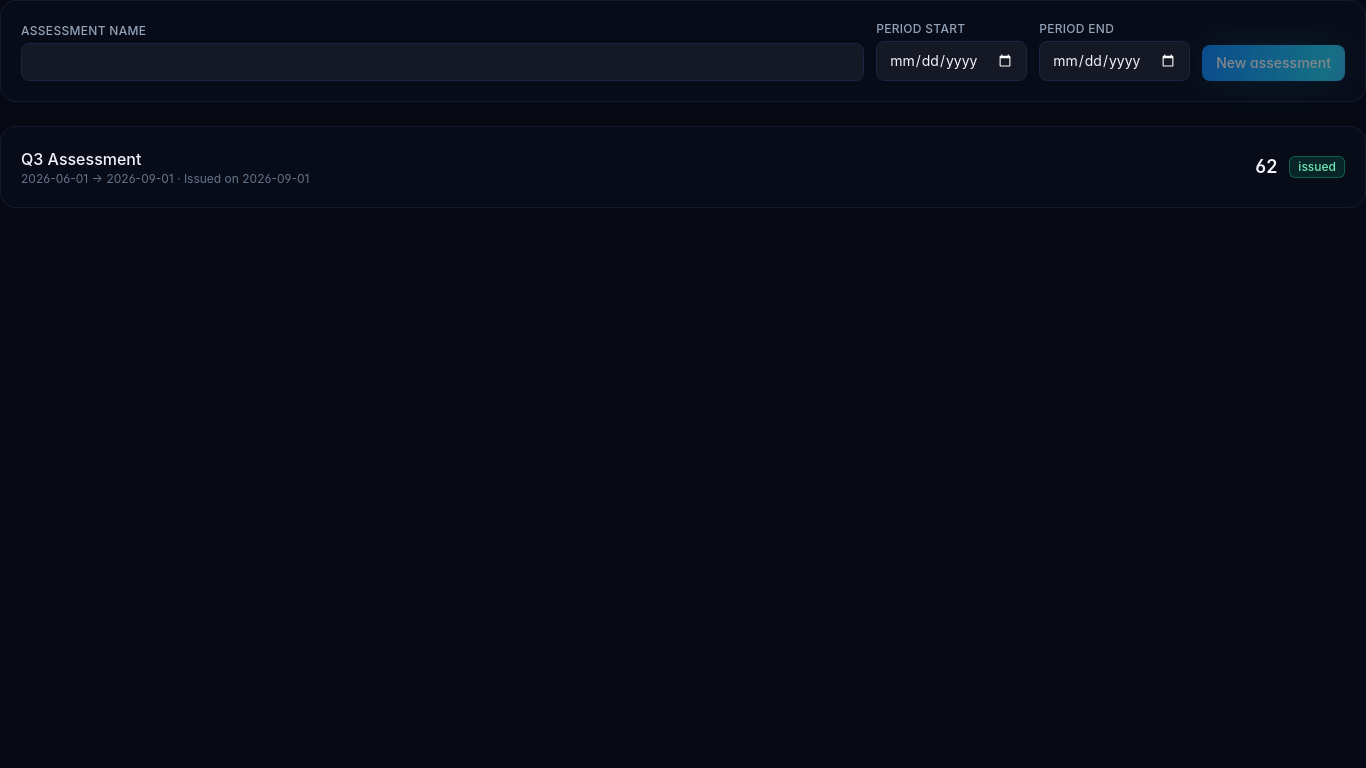
Test: AssessmentsTab — trend states its direction explicitly › says the posture improved and by how much
Click the button "Q3 Assessment" at (81, 159), box [21,147,1345,187]
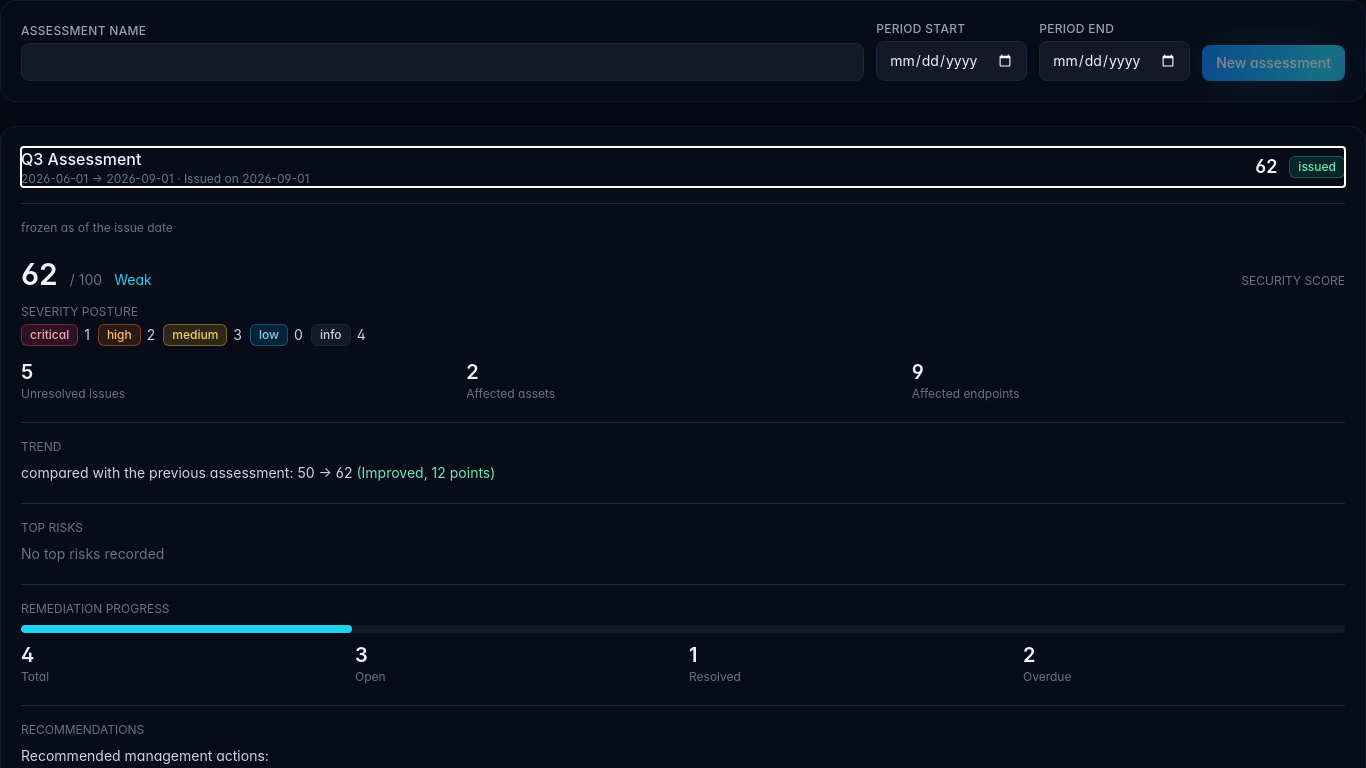
Expected: the text "(Improved, 12 points)" is shown, [356,464,495,481]
